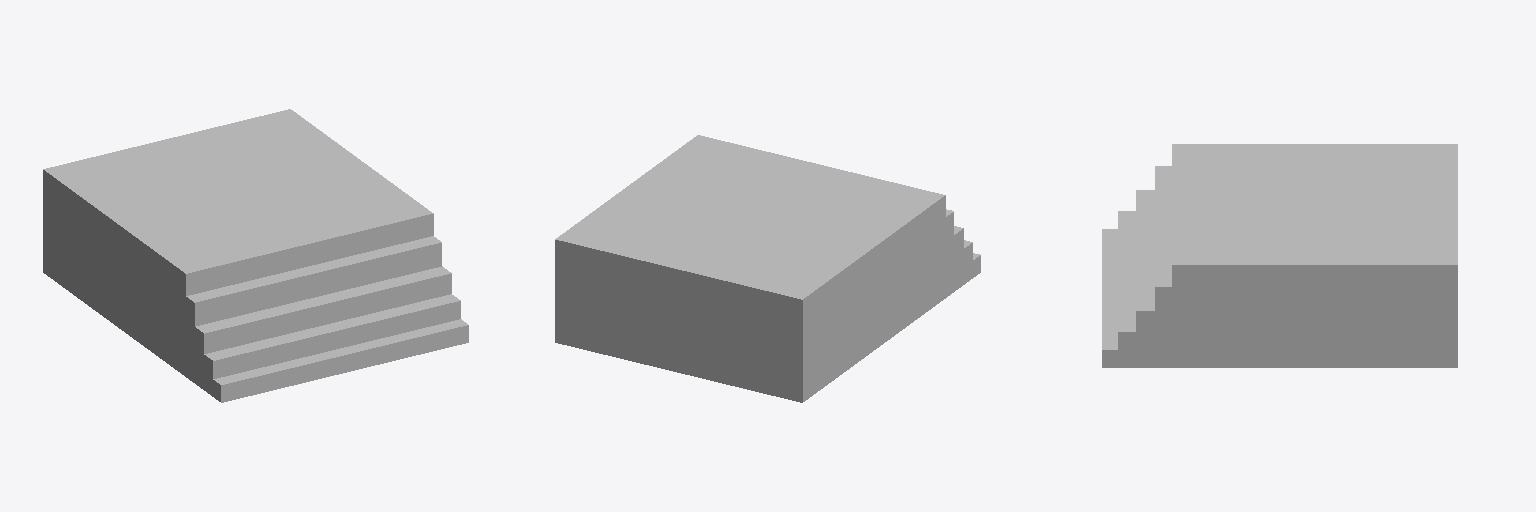
File: stairs.obj
The picture shows the model from 3 angles: view 1: azimuth 30°, elevation 25°; view 2: azimuth 150°, elevation 25°; view 3: azimuth 270°, elevation 25°; orthographic projection.
Parts seen in each view (by area): view 1: pasted__stairs group; view 2: pasted__stairs group; view 3: pasted__stairs group.
Part boxes in pixels (bbox=[...]): pasted__stairs group: bbox=[43, 109, 468, 402]; pasted__stairs group: bbox=[555, 135, 980, 402]; pasted__stairs group: bbox=[1102, 144, 1457, 367].
Size of the model in its own units: 35.23 by 14.04 by 43.95.